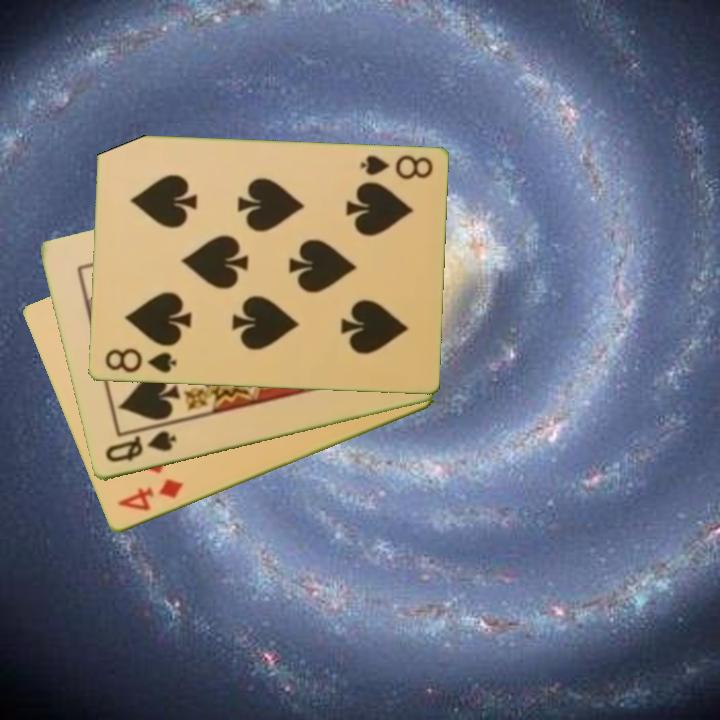4d: (114, 475, 186, 515)
8s: (101, 345, 179, 377), (356, 152, 435, 183)
Qs: (101, 428, 179, 466)
